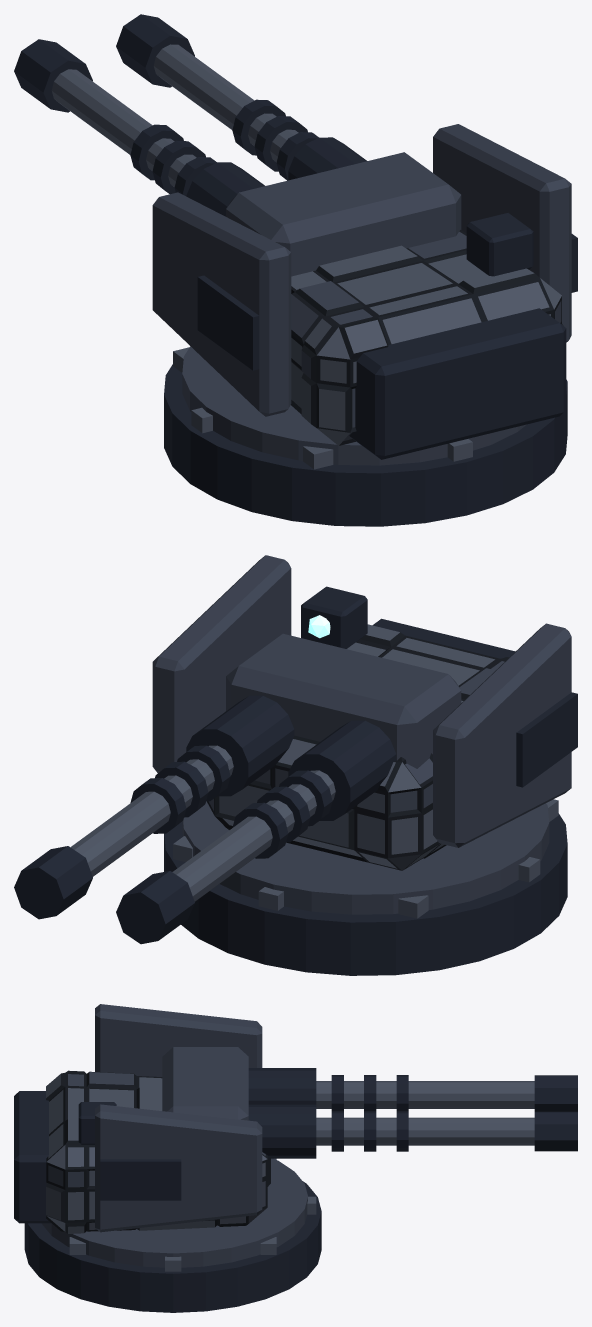
File: turret.glb
3 renders of one model, top to bottom at view 1: azimuth 30°, elevation 25°; view 2: azimuth 150°, elevation 25°; view 3: azimuth 270°, elevation 25°, orthographic. The views are drawn at different scales.
Parts seen in each view (by area): view 1: Yaw_mesh, Pitch_mesh, Base_mesh; view 2: Yaw_mesh, Pitch_mesh, Base_mesh; view 3: Yaw_mesh, Pitch_mesh, Base_mesh.
Boxes of the visible parts, <box> form: Yaw_mesh: <box>152,124,577,459</box>; Pitch_mesh: <box>14,14,461,276</box>; Base_mesh: <box>164,346,567,526</box>; Yaw_mesh: <box>152,555,577,870</box>; Pitch_mesh: <box>14,633,461,944</box>; Base_mesh: <box>164,799,567,975</box>; Yaw_mesh: <box>14,1004,270,1233</box>; Pitch_mesh: <box>162,1047,577,1158</box>; Base_mesh: <box>24,1158,321,1312</box>.
Bounding box in the file's own units: 1.1 × 0.7876 × 2.09.
